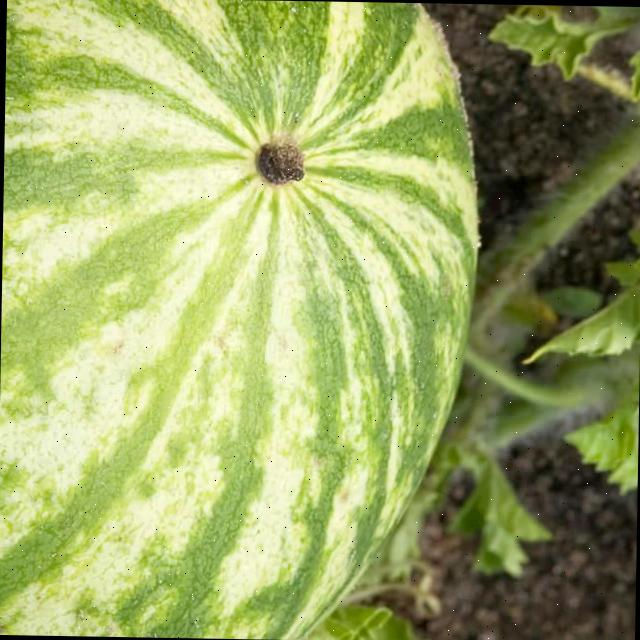watermelon: (0, 0, 476, 640)
